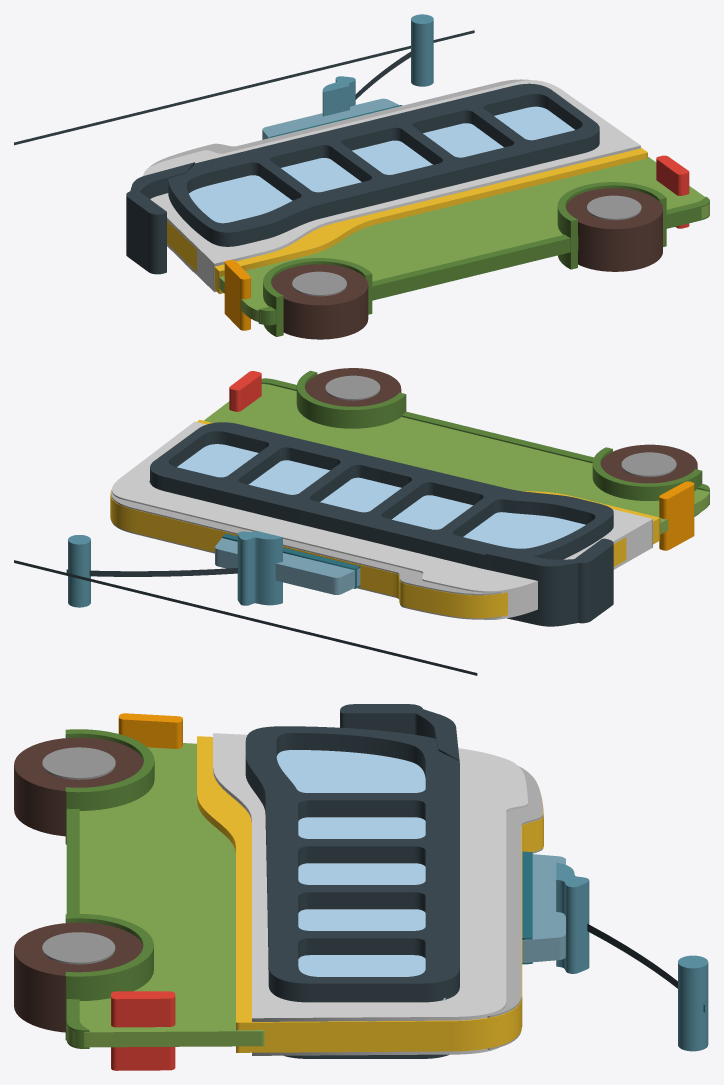
The model's file is emoji_u1f68e.glb.
3 renders of one model, top to bottom at view 1: azimuth 30°, elevation 25°; view 2: azimuth 150°, elevation 25°; view 3: azimuth 270°, elevation 25°, orthographic. The views are drawn at different scales.
Parts seen in each view (by area): view 1: emoji_u1f68e; view 2: emoji_u1f68e; view 3: emoji_u1f68e.
Boxes of the visible parts, <box> form: emoji_u1f68e: <box>14,14,709,339</box>; emoji_u1f68e: <box>14,368,709,675</box>; emoji_u1f68e: <box>14,704,708,1070</box>.
Size of the model in its own units: 0.0339 by 0.0046 by 0.0334.
